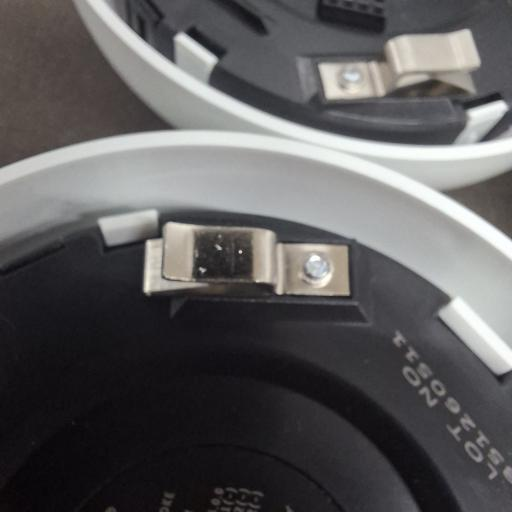yayli: (145, 221, 352, 299), (314, 28, 482, 105)
